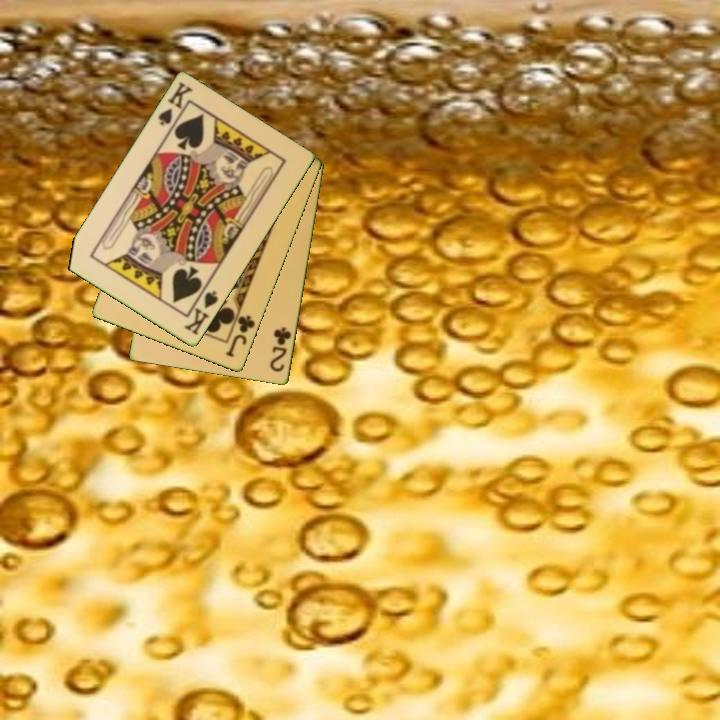2c: (266, 324, 294, 375)
Jc: (222, 306, 258, 361)
Ks: (155, 79, 196, 135), (181, 283, 221, 339)
